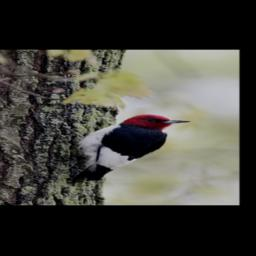Woodpecker: (74, 114, 192, 182)
